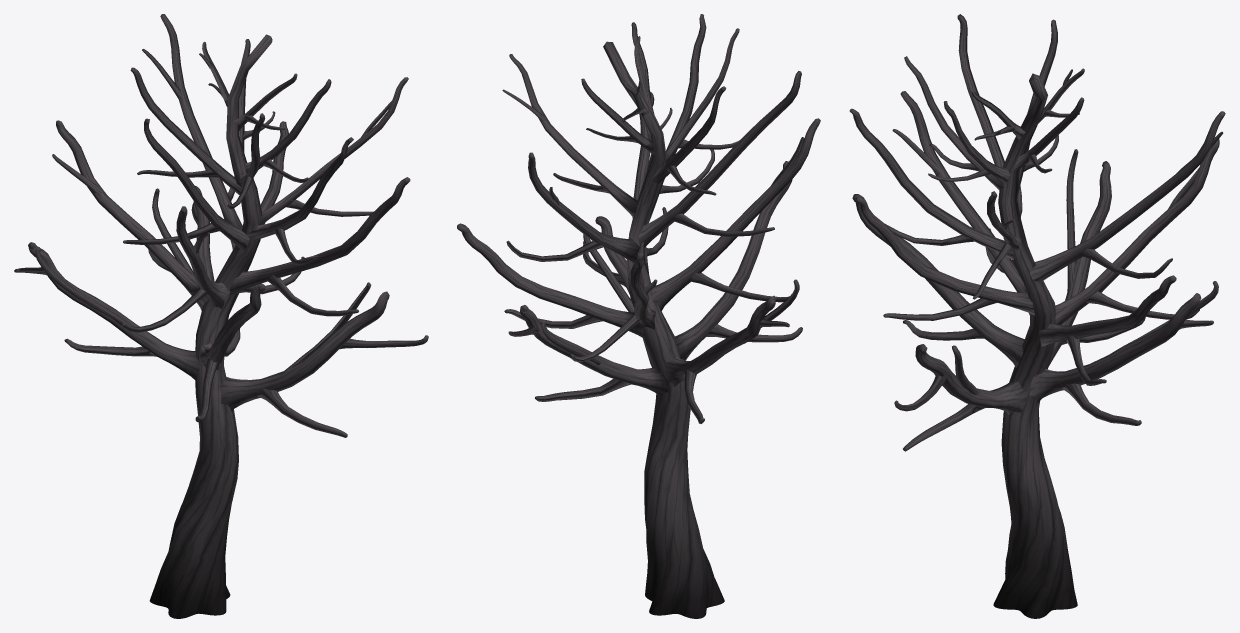
The model's file is DeadTree_1.glb.
3 views of the same model, side by side, from view 1: azimuth 30°, elevation 25°; view 2: azimuth 150°, elevation 25°; view 3: azimuth 270°, elevation 25° (orthographic). The views are drawn at different scales.
Visible parts, largest first — view 1: DeadTree_1; view 2: DeadTree_1; view 3: DeadTree_1.
Boxes of the visible parts, box(x1,y1,x2,y2) form: DeadTree_1: box(14, 14, 428, 618); DeadTree_1: box(457, 14, 820, 618); DeadTree_1: box(849, 14, 1225, 618).
Size of the model in its own units: 6.15 by 9.5 by 5.75.
1 material, 1 textured.
